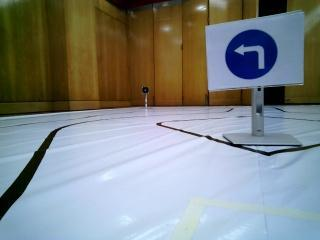left: (211, 25, 304, 85)
